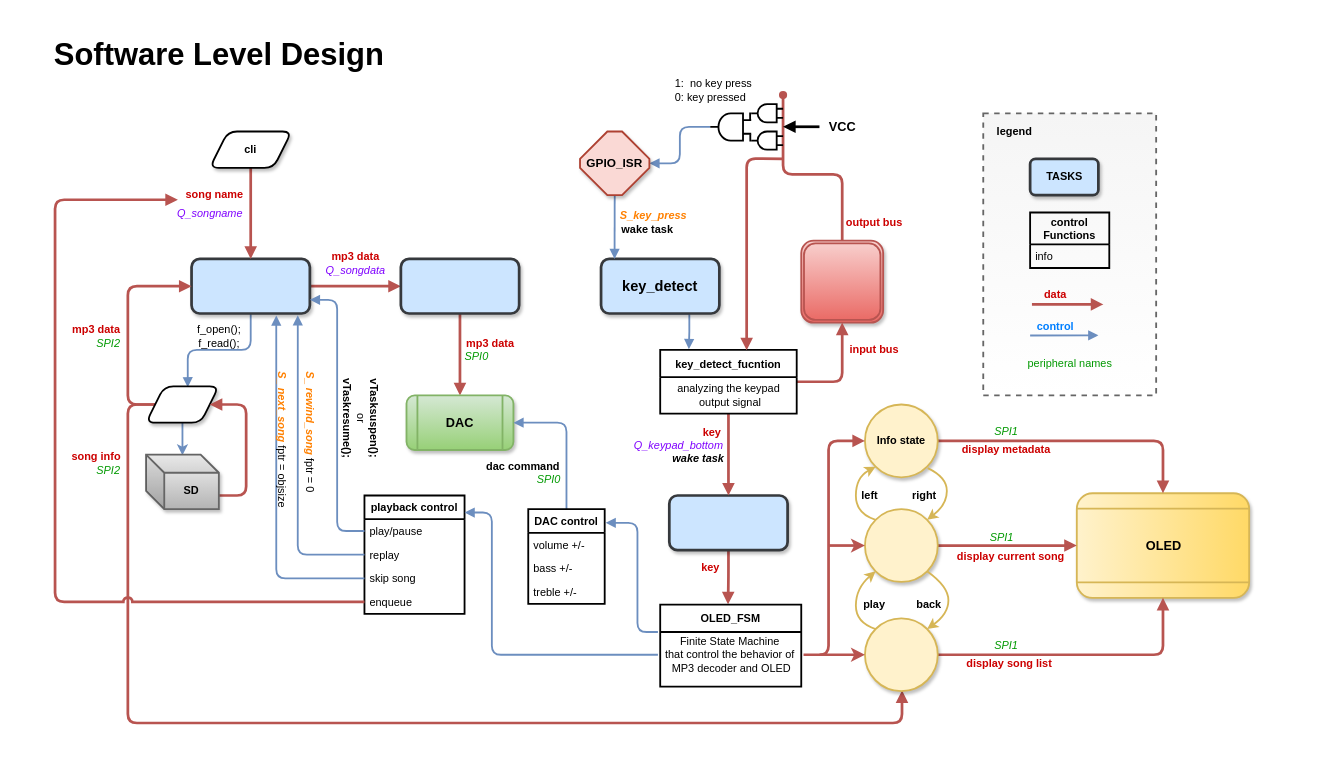
Some shapes in this 1320 by 763 pixel diagram are drawn without their labels. The shapes that lost their labels are listed below. From the top down, each one's centre as x and y in pixels, then its label:
(251,287): reader
(460,287): player
(842,282): 4x4 keypad
(183,405): fatfs
(729,523): key_ISR
(902,546): Play state
(902,655): Idle state
